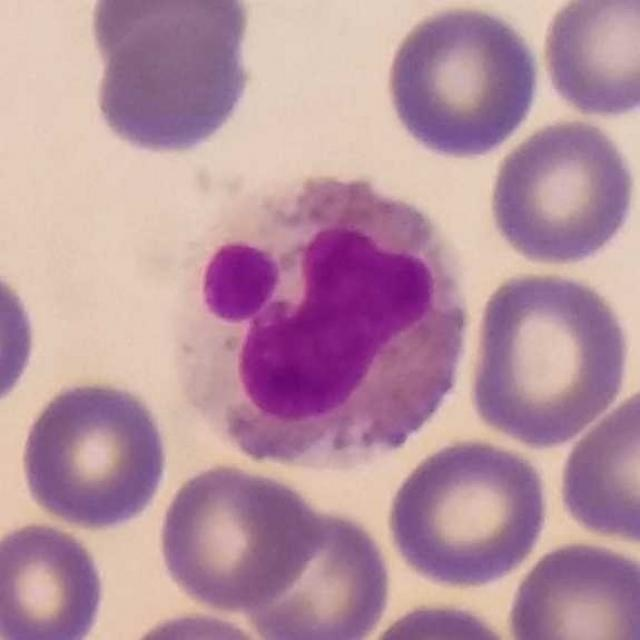eosino: (172, 173, 468, 472)
